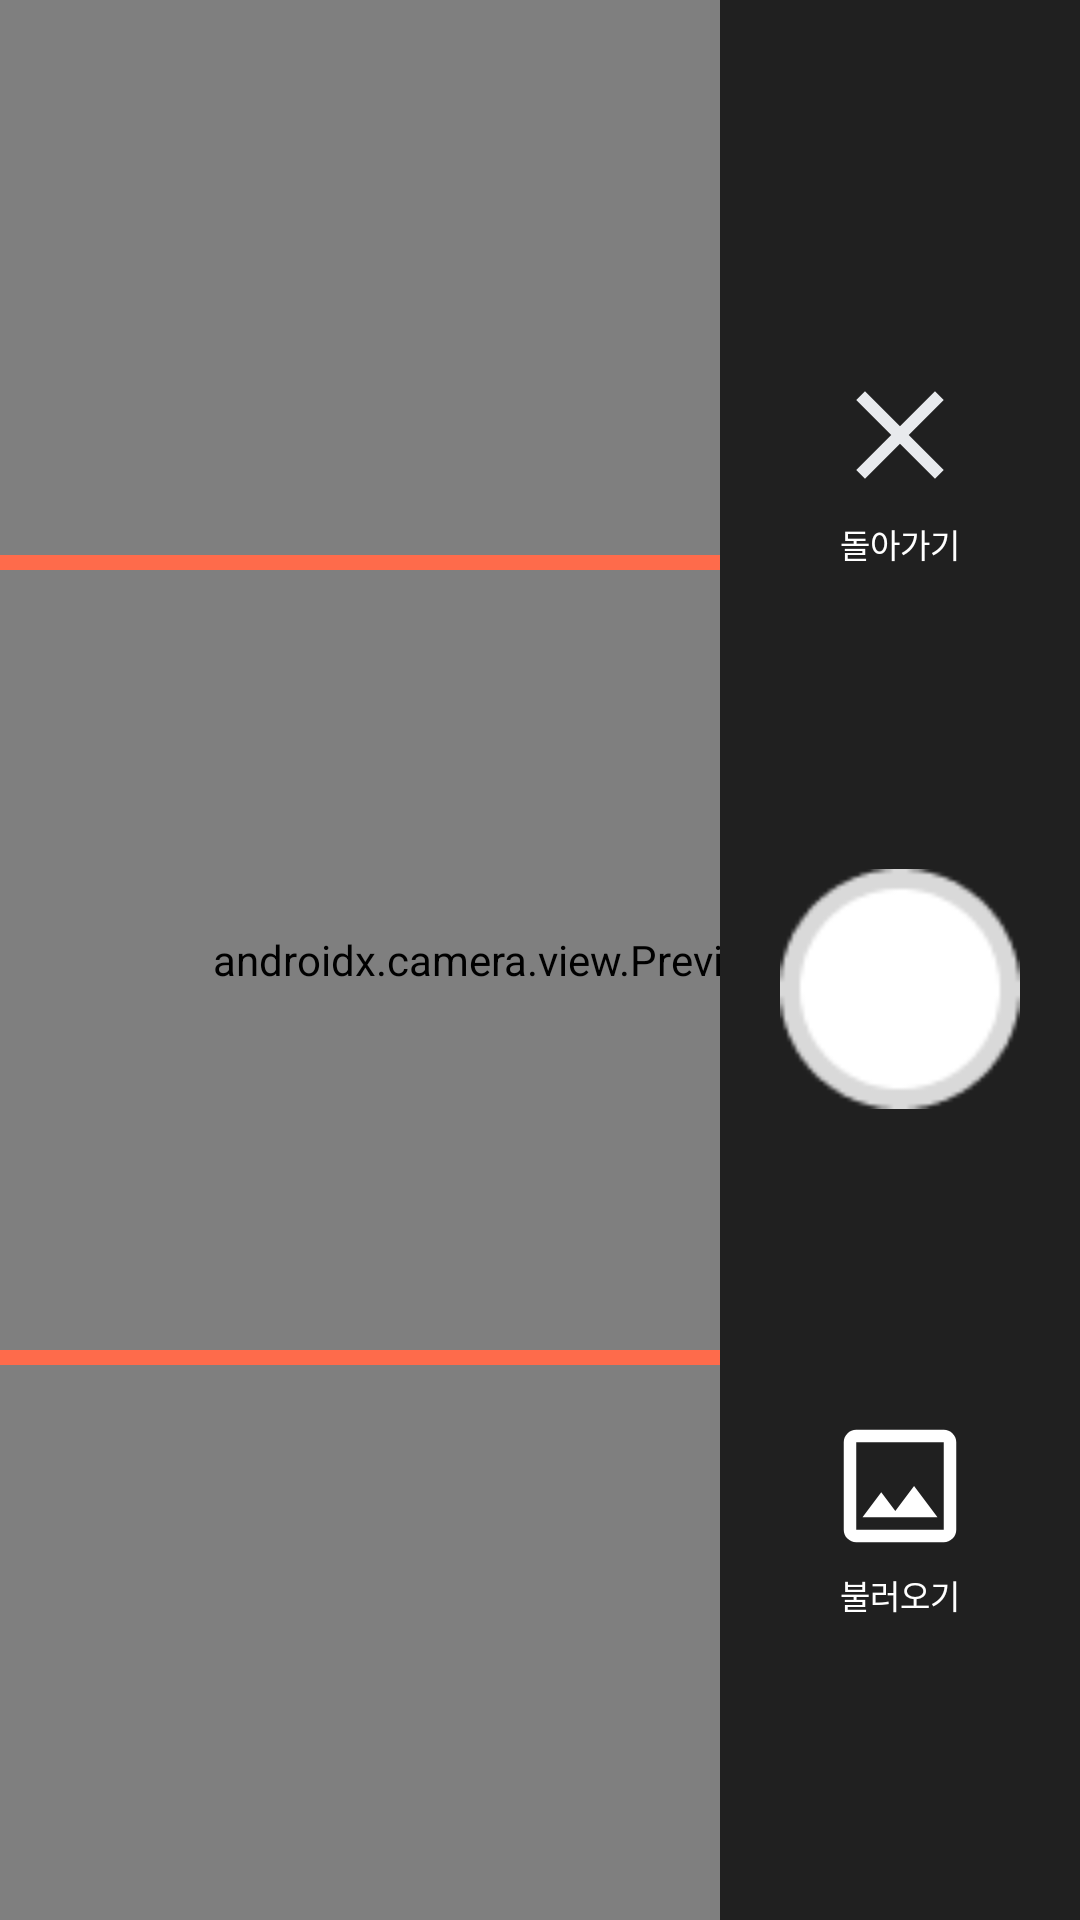

Where to tap for icons on this 1080 x 1920 app screen, as (x=x, y=y):
delete: (x=900, y=435)
gallery: (x=900, y=1486)
